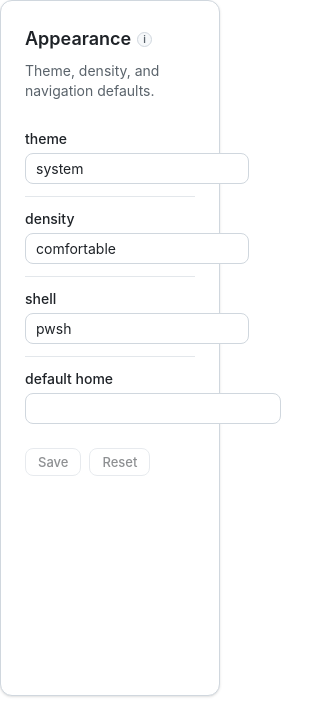
Test: SectionAppearance › Codex PR P1: edit during in-flight Save preserves newer edit (compare-and-swap)
Select "dark" in the dropdown with id "appearance": x=137, y=168 x1=25 y1=153 x2=249 y2=184
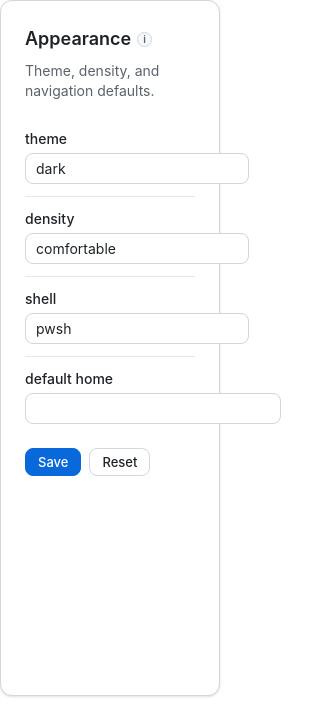
Note: Click Save (PUT now in-flight, blocked on themeDelay)
Click the button "Save": x=53, y=462 x1=25 y1=448 x2=81 y2=476
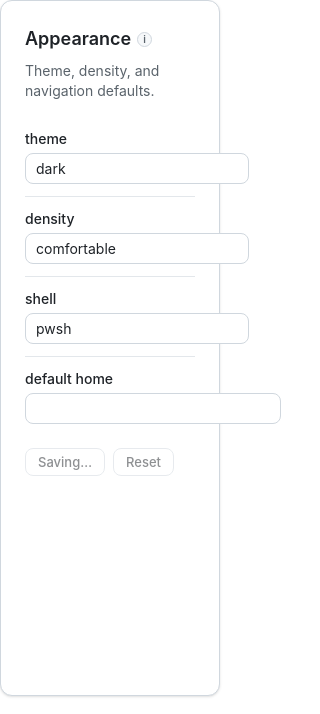
Select "light" in the dropdown with id "appearance": x=137, y=168 x1=25 y1=153 x2=249 y2=184
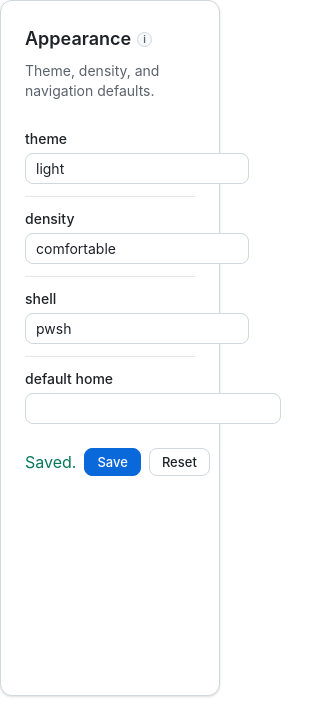
Result: the button "Save" is enabled at x1=84 y1=448 x2=141 y2=476
